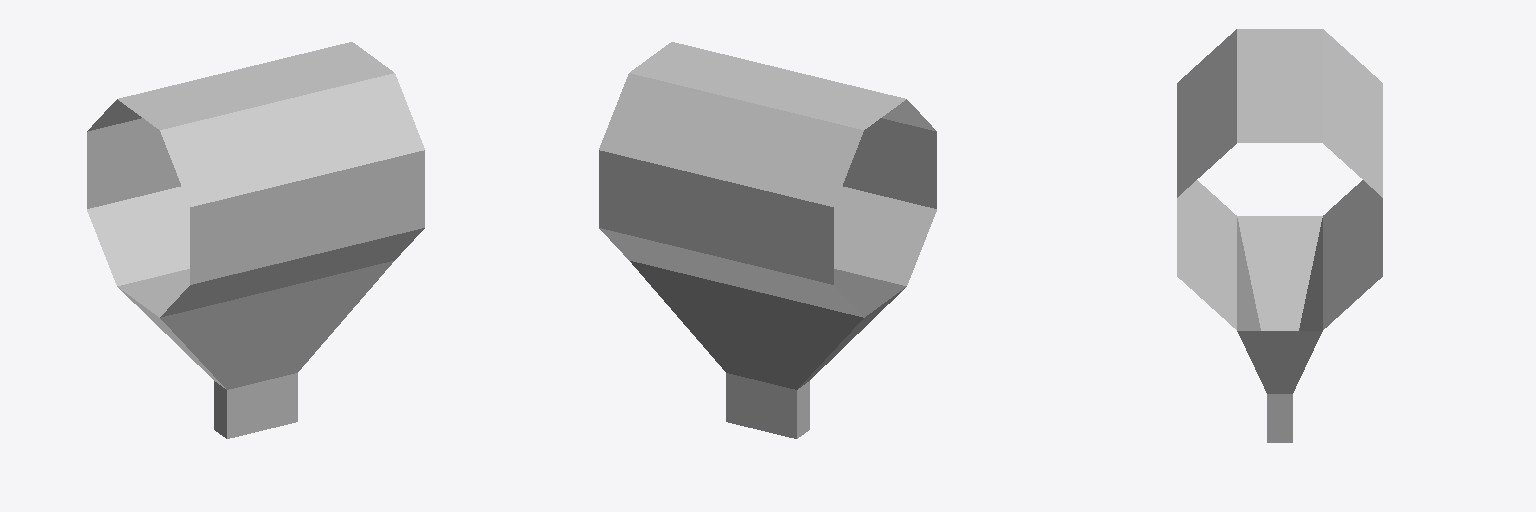
The model's file is pipeStand.obj.
3 renders of one model, left to right at view 1: azimuth 30°, elevation 25°; view 2: azimuth 150°, elevation 25°; view 3: azimuth 270°, elevation 25°, orthographic.
Visible parts, largest first — view 1: mesh01; view 2: mesh01; view 3: mesh01.
Part boxes in pixels (left/top/right/bottom): mesh01: left=87, top=42, right=424, bottom=438; mesh01: left=599, top=42, right=936, bottom=438; mesh01: left=1177, top=29, right=1382, bottom=442.
Size of the model in its own units: 1 by 1.38 by 0.7611.